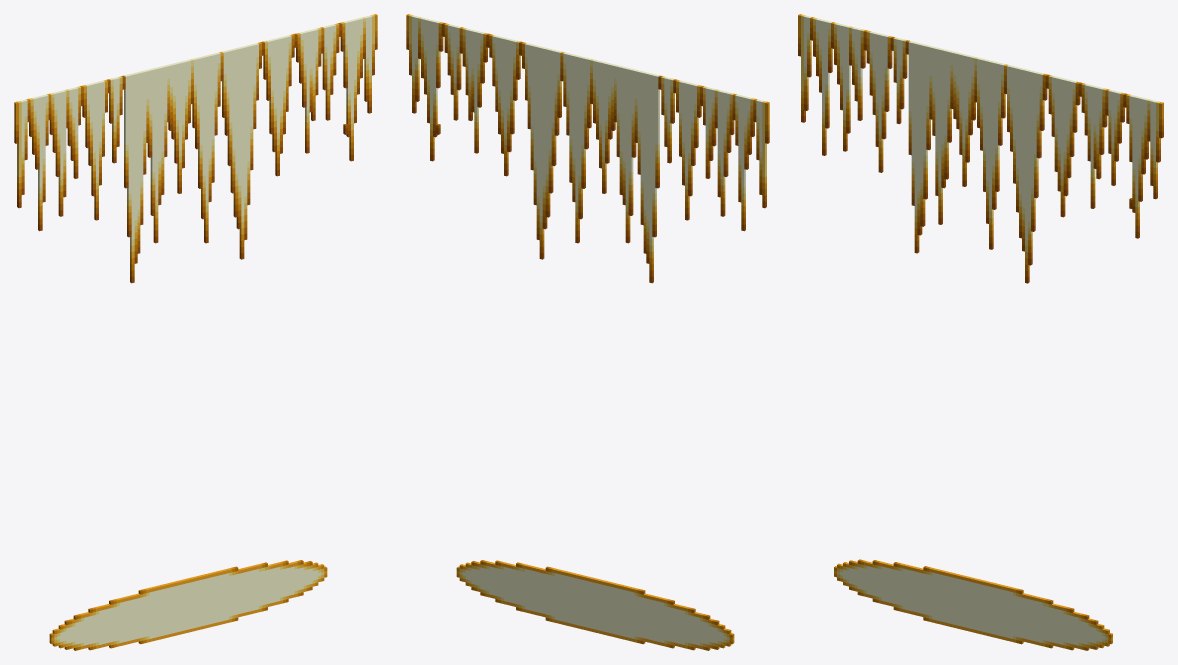
The model's file is Fight_757_2_17_fx.obj.
The picture shows the model from 3 angles, left to right: view 1: azimuth 30°, elevation 25°; view 2: azimuth 150°, elevation 25°; view 3: azimuth 330°, elevation 25°; orthographic projection.
Size of the model in its own units: 12.2 by 18.4 by 0.1.
1 material, 1 textured.
